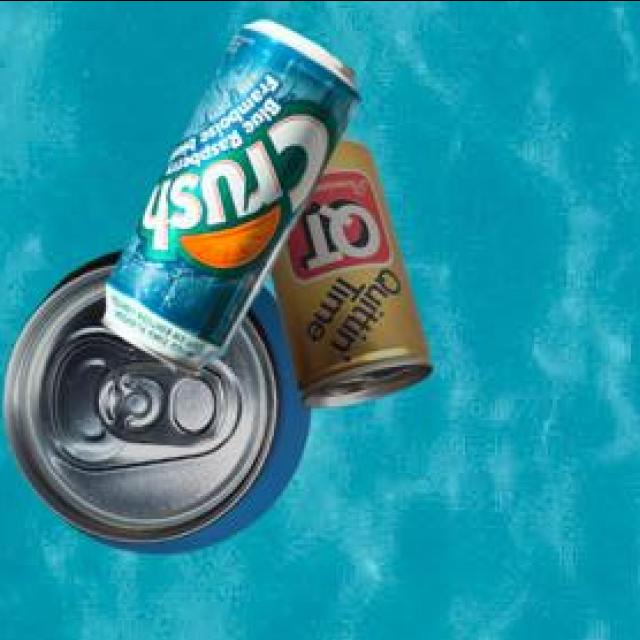logam: (8, 247, 314, 549), (105, 17, 363, 369), (275, 132, 436, 402)
